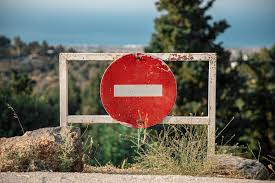No entry: (99, 54, 177, 127)
